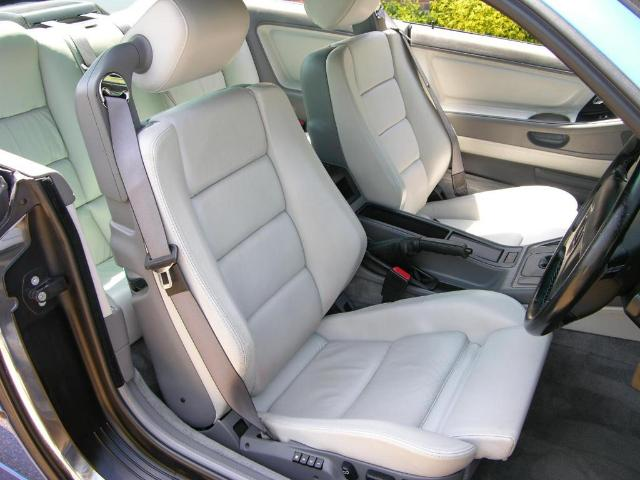Seatbelt: (105, 95, 282, 444), (394, 30, 472, 200)
